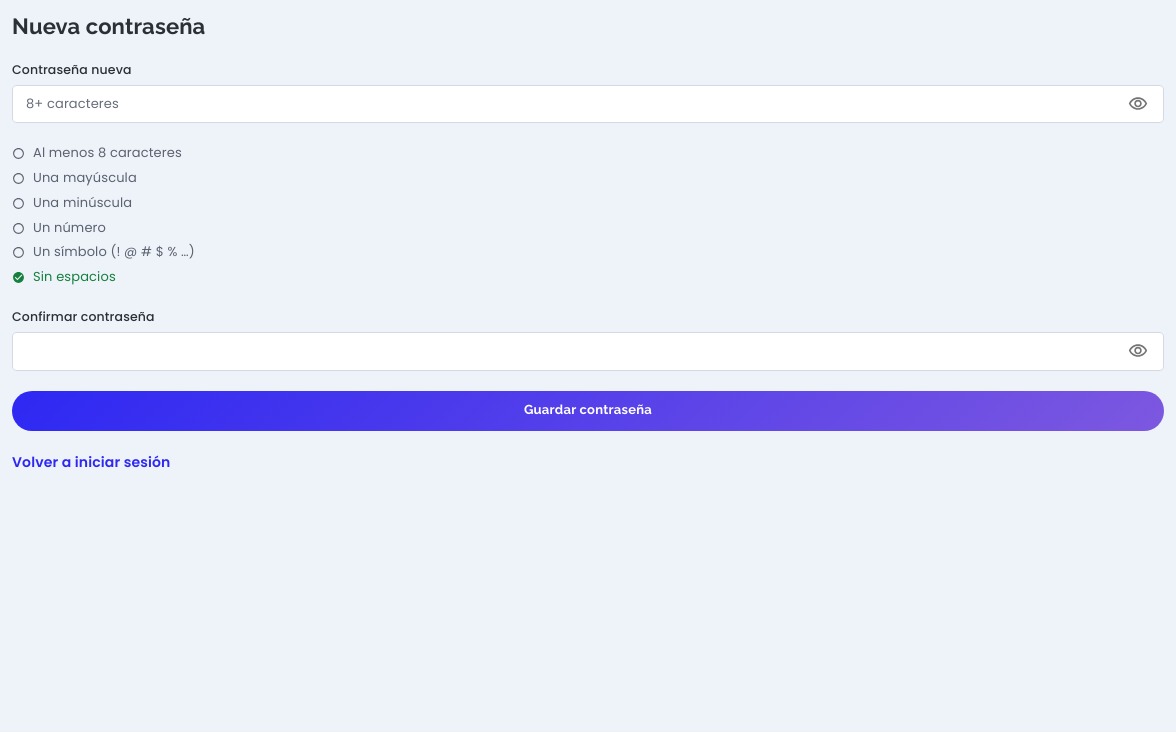
Test: <ResetPasswordPage /> › muestra que el enlace venció
Type "Nueva#12345" into the password field labelled "Contraseña nueva" at (564, 104), box 12,85 -> 1115,123
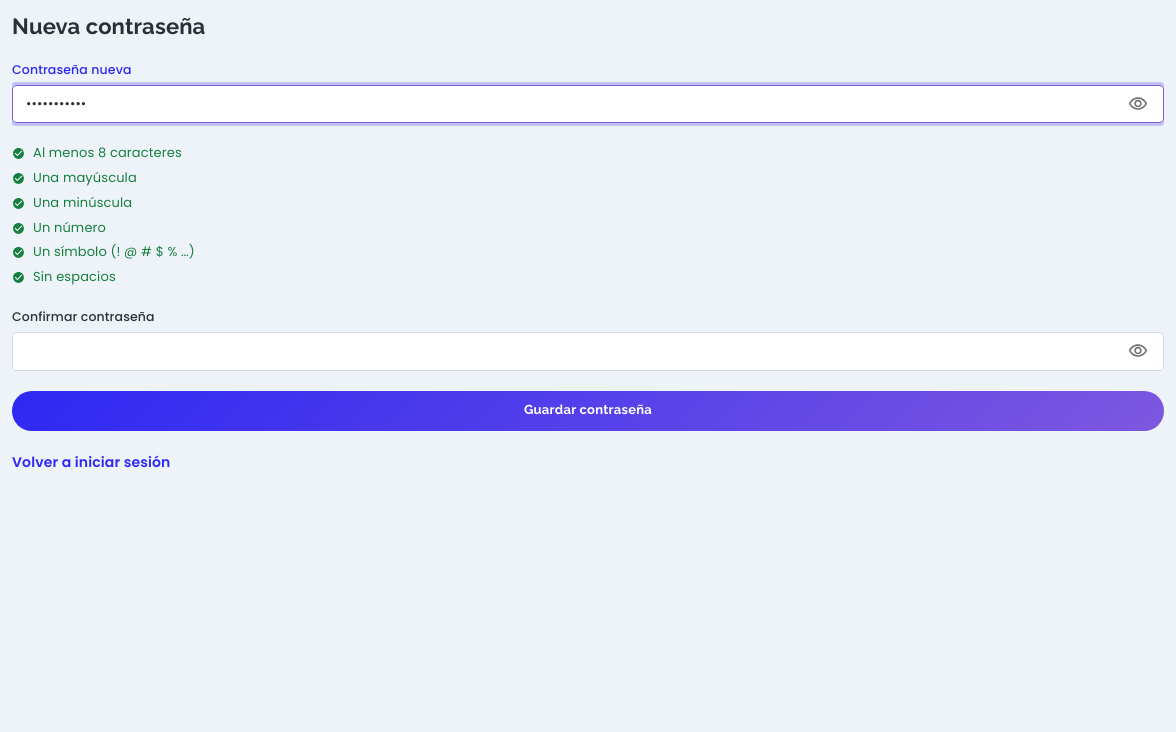
Type "Nueva#12345" into the password field labelled "Confirmar contraseña" at (564, 351), box 12,332 -> 1115,371
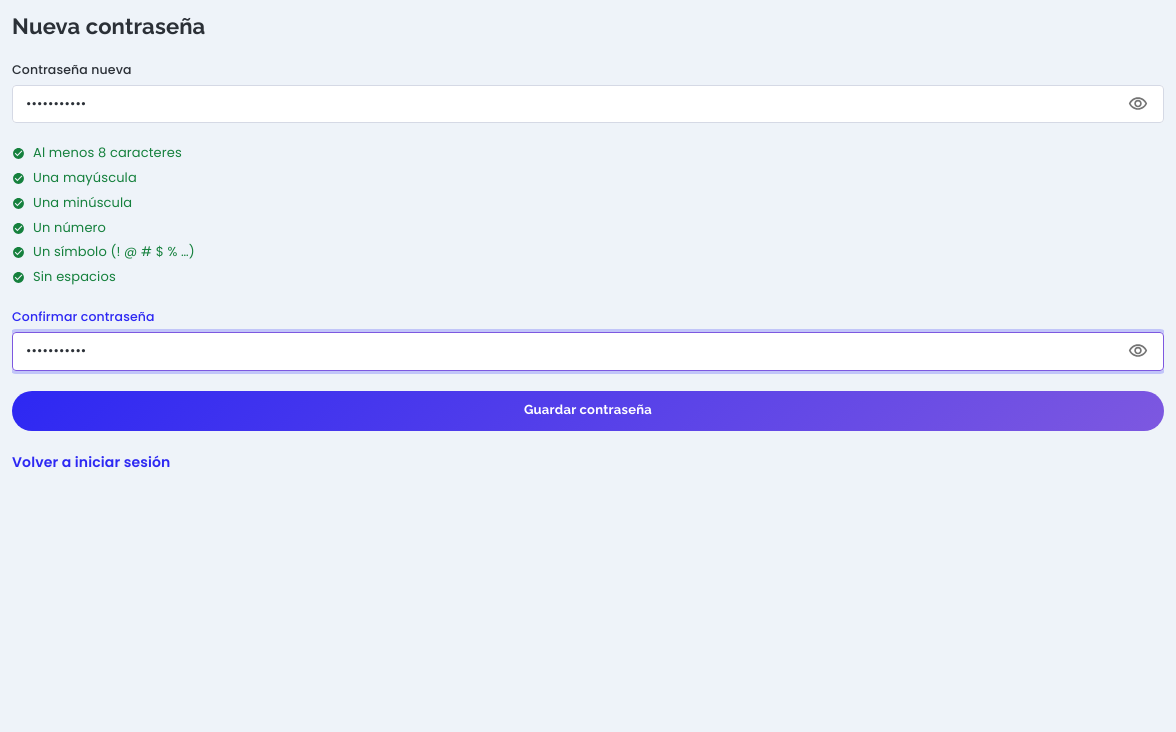
Click the button "Guardar contraseña" at (588, 411), box 12,391 -> 1164,431
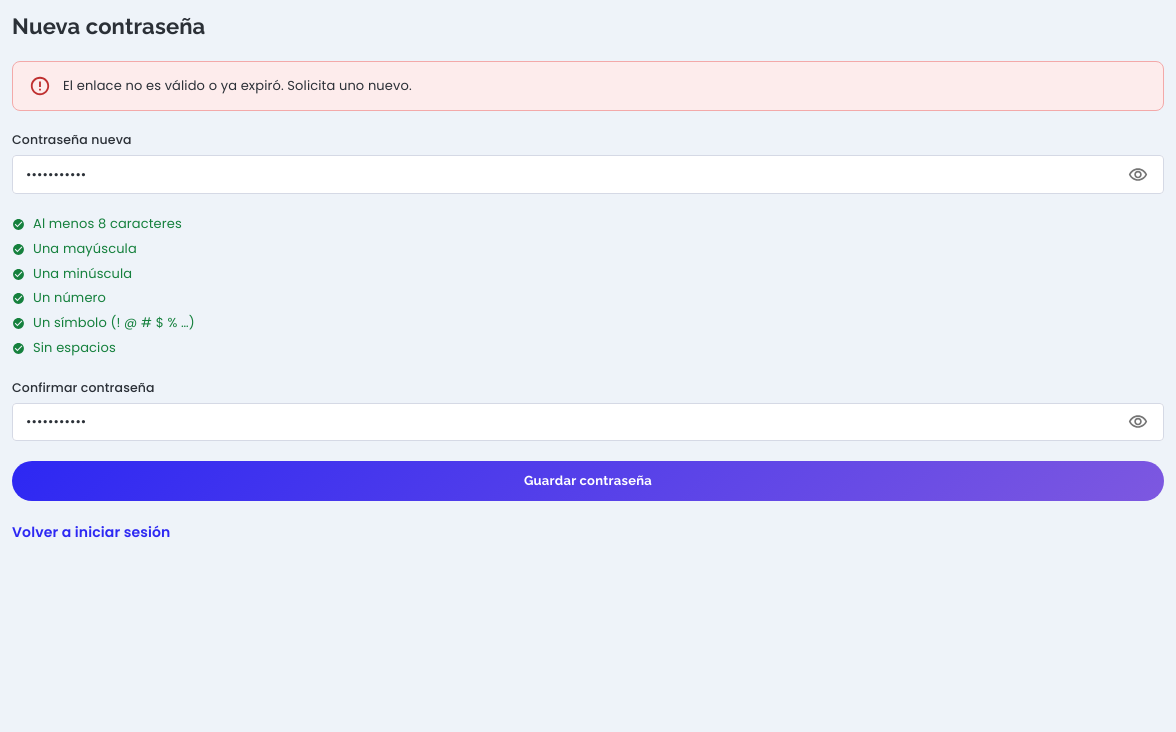
Result: the message shows "ya expiró" at 63,76 -> 412,95
